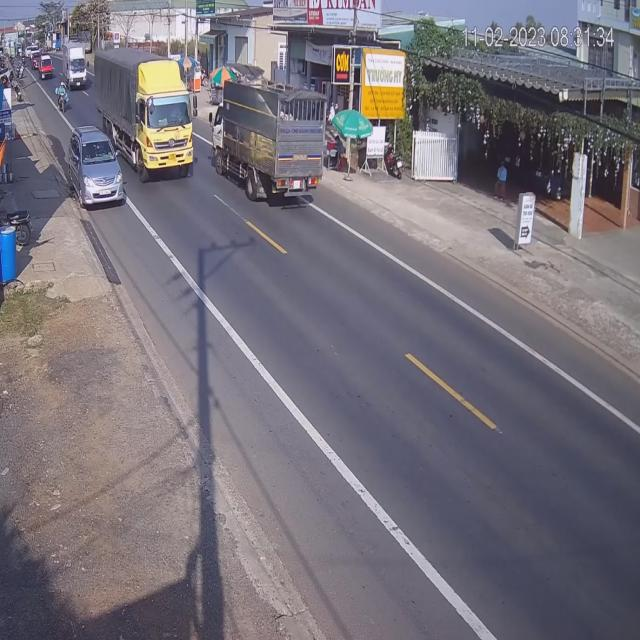car: (72, 128, 128, 211), (39, 53, 53, 81)
motorbike: (58, 81, 70, 113)
truck: (212, 79, 329, 202), (96, 54, 196, 184), (64, 43, 90, 91)
